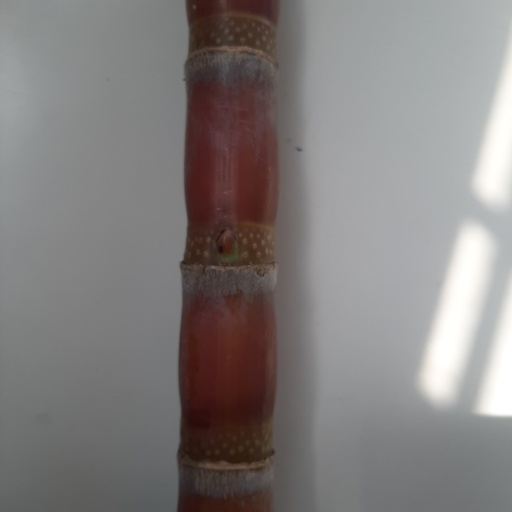Bud: (213, 225, 238, 260)
